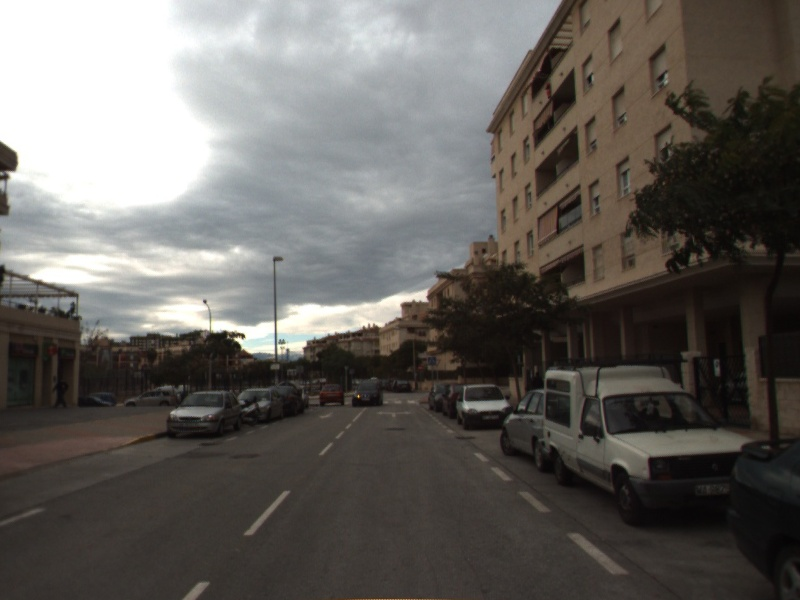LEFT_RIGHT: (374, 408, 414, 419)
